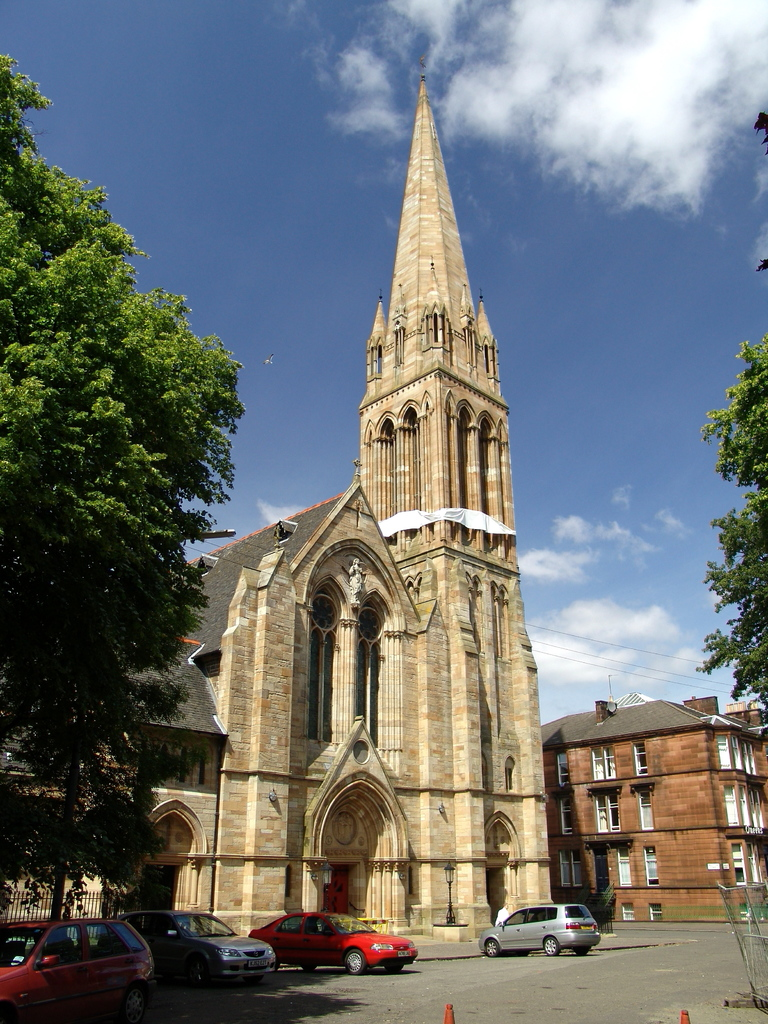Car: (0, 923, 164, 1015), (249, 908, 419, 970), (123, 910, 273, 977), (480, 900, 597, 956)
